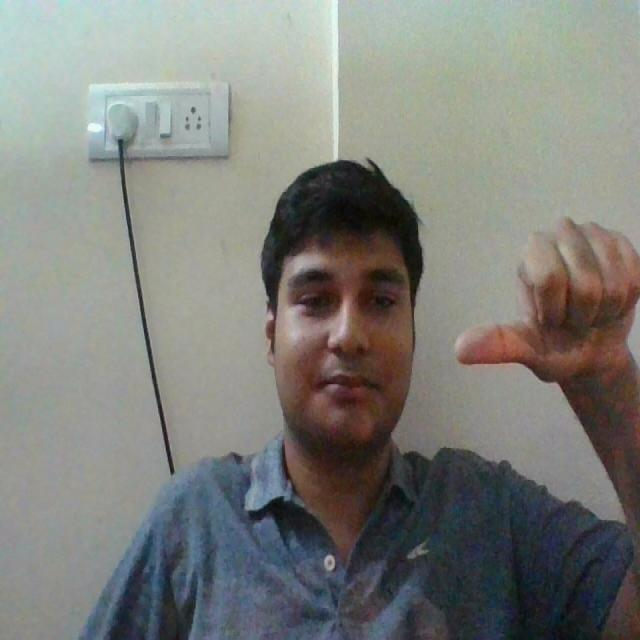Yes: (453, 202, 640, 414)
